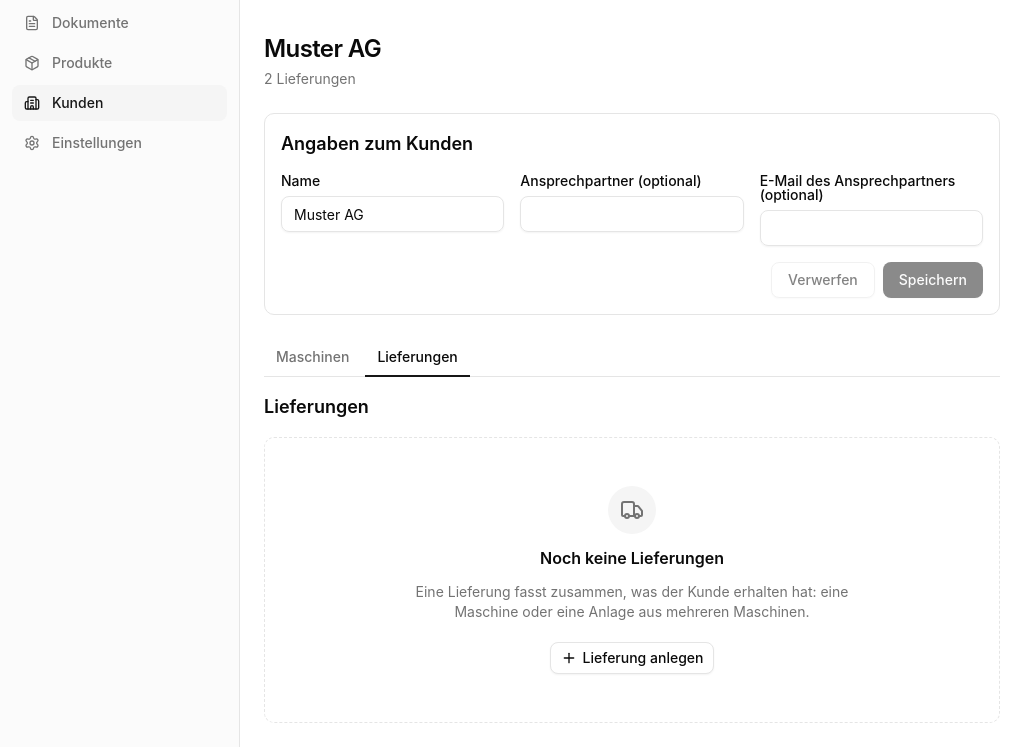
Test: CustomerDeliveries › creates a machine delivery whose languages come from its products
This screenshot has width=1024, height=747.
(page scrolled)
Click the button "Lieferung anlegen": (632, 658) left=550, top=642, right=714, bottom=674
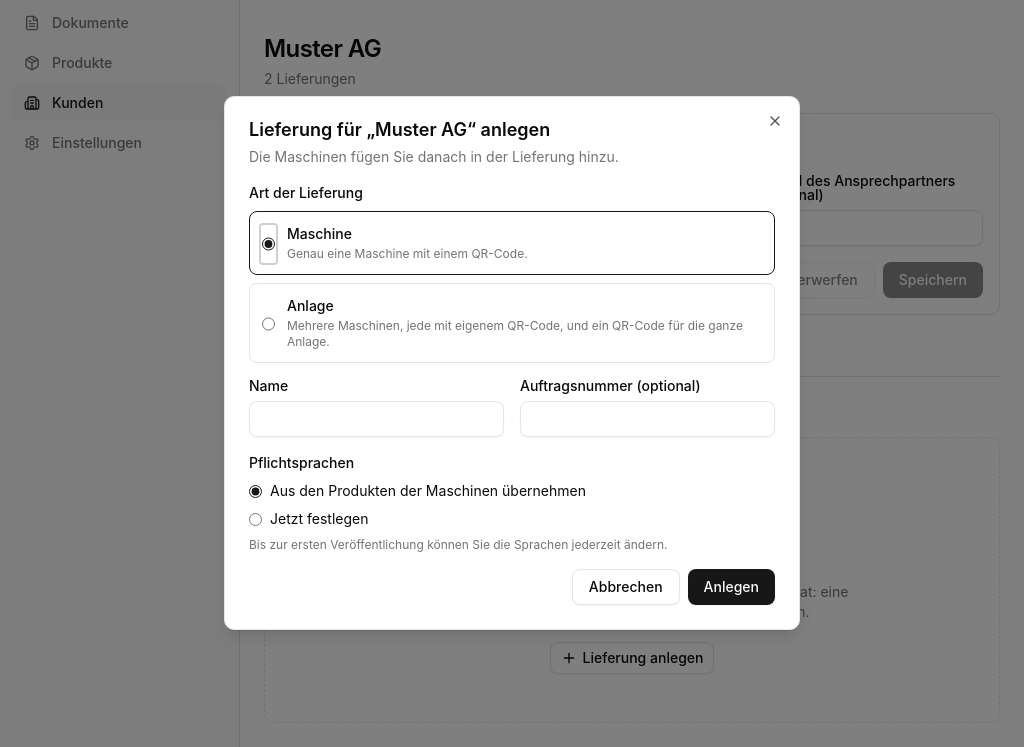
expect the radio button labelled "Maschine Genau eine Maschine mit einem QR-Code." is checked: met, box left=262, top=226, right=275, bottom=262
expect the radio button labelled "Aus den Produkten der Maschinen übernehmen" is checked: met, box left=249, top=484, right=262, bottom=498
In the field labelled "Name": (376, 419) left=249, top=401, right=504, bottom=437, type " Laser Halle 3 "
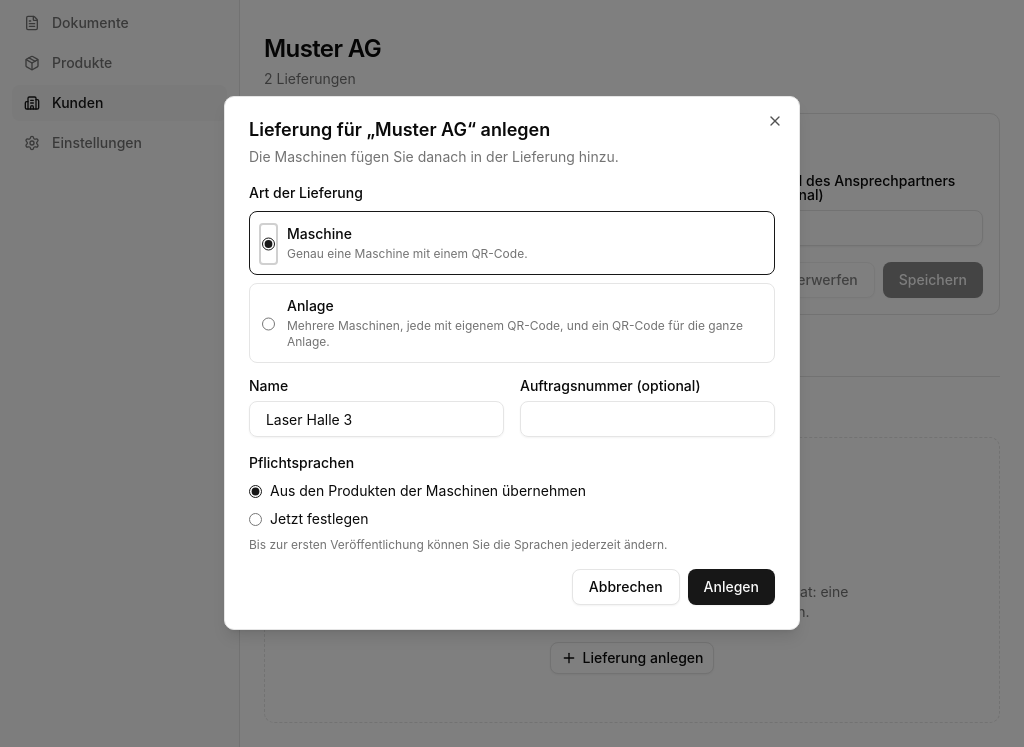
Click the button "Anlegen": (731, 587) left=688, top=569, right=775, bottom=605
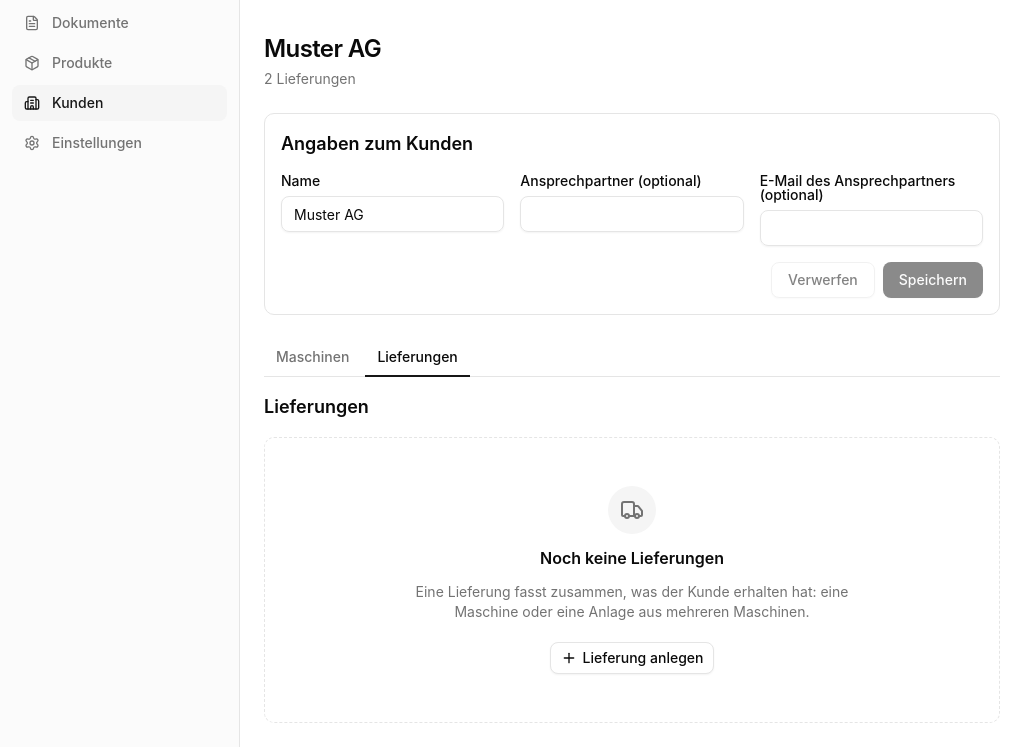
expect the dialog is gone: met
